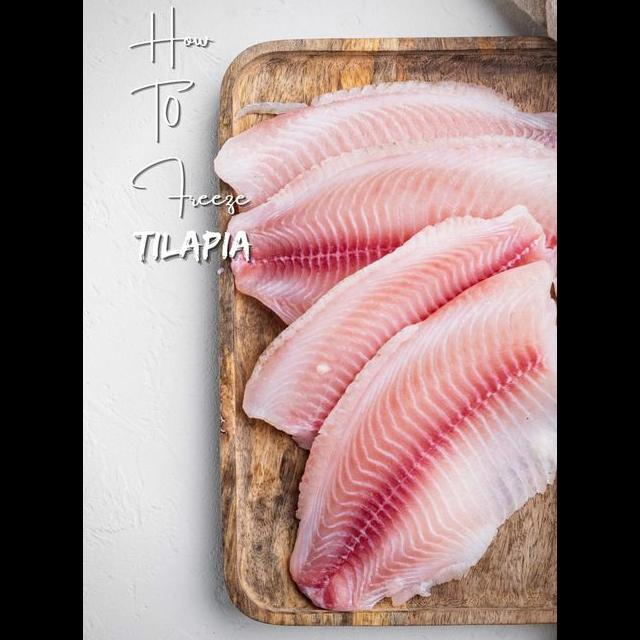fish: (290, 260, 557, 623)
